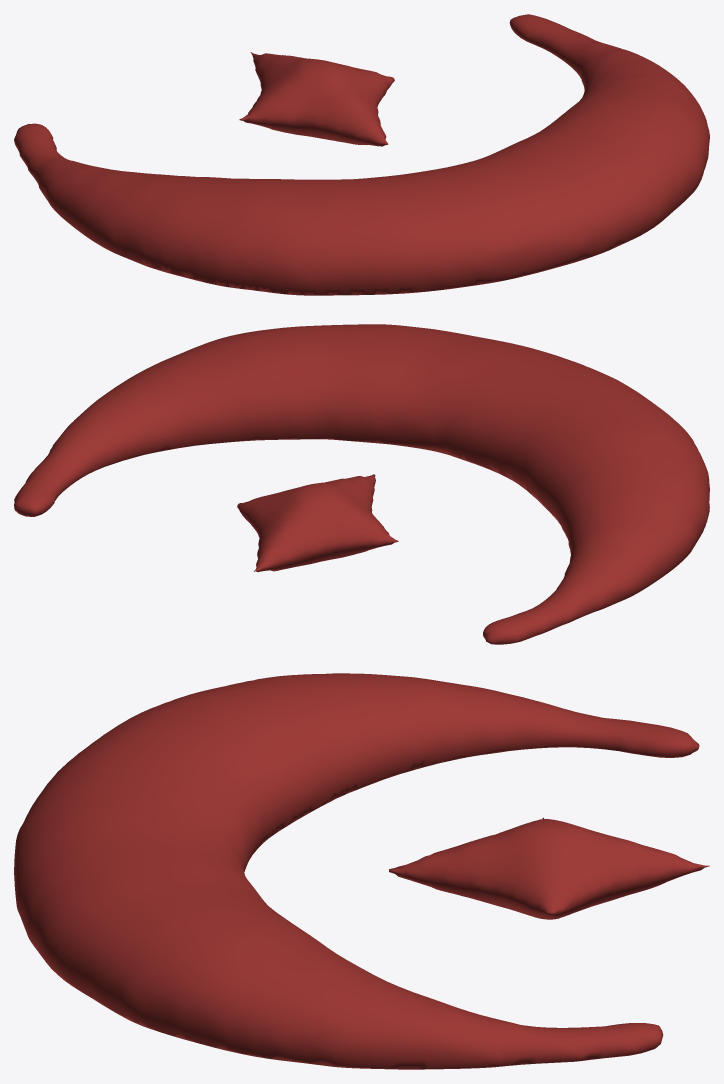
The model's file is decoration-mage-draco.glb.
3 renders of one model, top to bottom at view 1: azimuth 30°, elevation 25°; view 2: azimuth 150°, elevation 25°; view 3: azimuth 270°, elevation 25°, orthographic. The views are drawn at different scales.
Visible parts, largest first — view 1: decoration_mage; view 2: decoration_mage; view 3: decoration_mage.
Boxes of the visible parts, left/top/right/bottom form: decoration_mage: left=14, top=14, right=709, bottom=295; decoration_mage: left=14, top=324, right=709, bottom=644; decoration_mage: left=14, top=673, right=709, bottom=1069.
Bounding box in the file's own units: 0.2185 × 0.0239 × 0.1799.
